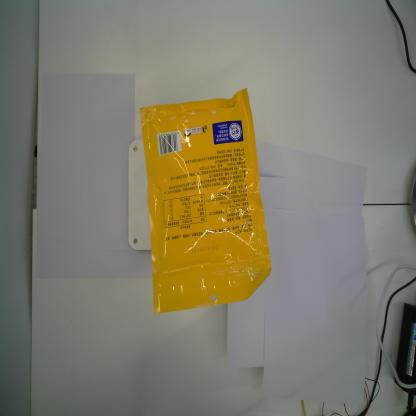Dried Fruit: (140, 86, 272, 315)
